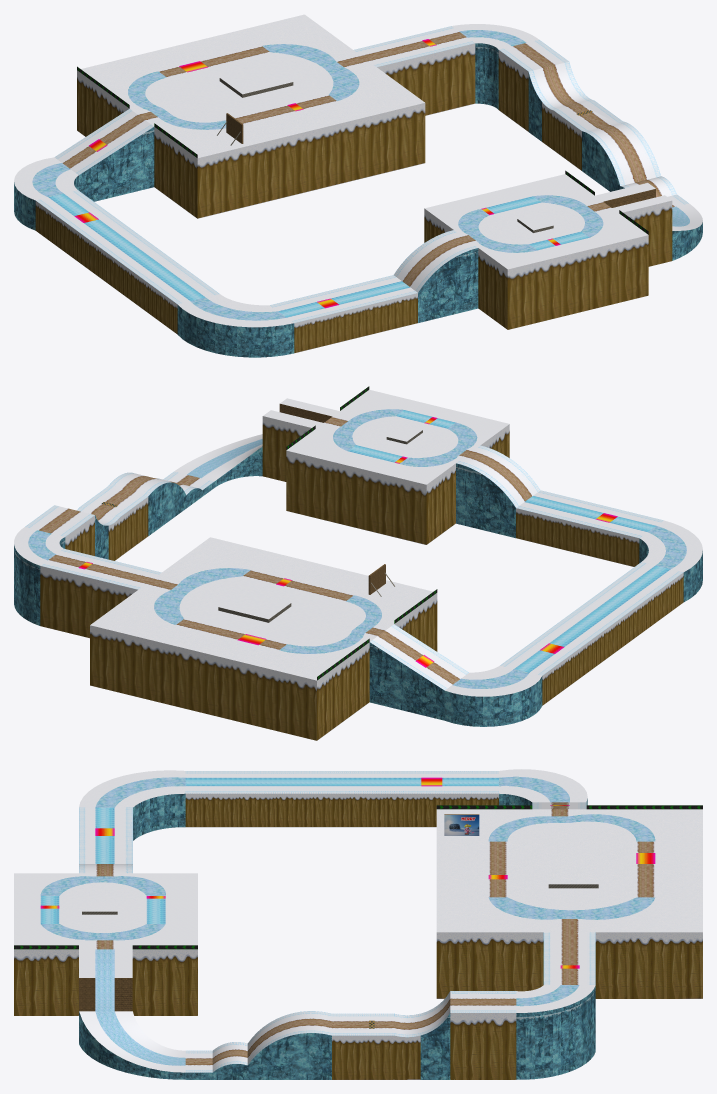
3 views of the same model, one above another, from view 1: azimuth 30°, elevation 25°; view 2: azimuth 150°, elevation 25°; view 3: azimuth 270°, elevation 25° (orthographic). The views are drawn at different scales.
Parts seen in each view (by area): view 1: Christmas_Raceway-SKP--Wall.001, Christmas_Raceway-SKP--Snow.001, Christmas_Raceway-SKP--Wall2.001, Christmas_Raceway-SKP--Ice.001, Christmas_Raceway-SKP--Raod.001, Christmas_Raceway-SKP--Snow0.001, Christmas_Raceway-SKP--IceRoad.001, Christmas_Raceway-SKP--Snow1.001, Christmas_Raceway-SKP--Boost.001, Christmas_Raceway-SKP--Wall0.001, Christmas_Raceway-SKP--Arrow.001; view 2: Christmas_Raceway-SKP--Wall.001, Christmas_Raceway-SKP--Snow.001, Christmas_Raceway-SKP--Wall2.001, Christmas_Raceway-SKP--Ice.001, Christmas_Raceway-SKP--Raod.001, Christmas_Raceway-SKP--IceRoad.001, Christmas_Raceway-SKP--Snow0.001, Christmas_Raceway-SKP--Snow1.001, Christmas_Raceway-SKP--Boost.001, Christmas_Raceway-SKP--Wall0.001, Christmas_Raceway-SKP--Arrow.001; view 3: Christmas_Raceway-SKP--Snow.001, Christmas_Raceway-SKP--Wall.001, Christmas_Raceway-SKP--Wall2.001, Christmas_Raceway-SKP--Ice.001, Christmas_Raceway-SKP--Raod.001, Christmas_Raceway-SKP--IceRoad.001, Christmas_Raceway-SKP--Snow0.001, Christmas_Raceway-SKP--Snow1.001, Christmas_Raceway-SKP--Arrow.001, Christmas_Raceway-SKP--Wall0.001, Christmas_Raceway-SKP--Boost.001, Christmas_Raceway-SKP--Ads.001.
Part boxes in pixels (bbox=[...]): Christmas_Raceway-SKP--Wall.001: bbox=[35, 43, 672, 353]; Christmas_Raceway-SKP--Snow.001: bbox=[14, 14, 702, 327]; Christmas_Raceway-SKP--Wall2.001: bbox=[14, 43, 702, 357]; Christmas_Raceway-SKP--Ice.001: bbox=[32, 30, 689, 320]; Christmas_Raceway-SKP--Raod.001: bbox=[62, 31, 675, 287]; Christmas_Raceway-SKP--Snow0.001: bbox=[36, 26, 688, 322]; Christmas_Raceway-SKP--IceRoad.001: bbox=[49, 193, 589, 317]; Christmas_Raceway-SKP--Snow1.001: bbox=[54, 39, 631, 295]; Christmas_Raceway-SKP--Boost.001: bbox=[74, 39, 560, 308]; Christmas_Raceway-SKP--Wall0.001: bbox=[226, 113, 655, 207]; Christmas_Raceway-SKP--Arrow.001: bbox=[77, 66, 648, 234]; Christmas_Raceway-SKP--Wall.001: bbox=[40, 416, 683, 740]; Christmas_Raceway-SKP--Snow.001: bbox=[14, 389, 702, 696]; Christmas_Raceway-SKP--Wall2.001: bbox=[14, 446, 702, 726]; Christmas_Raceway-SKP--Ice.001: bbox=[28, 409, 686, 688]; Christmas_Raceway-SKP--Raod.001: bbox=[37, 416, 532, 684]; Christmas_Raceway-SKP--IceRoad.001: bbox=[348, 410, 670, 672]; Christmas_Raceway-SKP--Snow0.001: bbox=[41, 445, 683, 675]; Christmas_Raceway-SKP--Snow1.001: bbox=[25, 460, 647, 690]; Christmas_Raceway-SKP--Boost.001: bbox=[78, 417, 617, 667]; Christmas_Raceway-SKP--Wall0.001: bbox=[279, 404, 385, 594]; Christmas_Raceway-SKP--Arrow.001: bbox=[286, 386, 437, 680]; Christmas_Raceway-SKP--Snow.001: bbox=[14, 769, 702, 1072]; Christmas_Raceway-SKP--Wall.001: bbox=[14, 793, 702, 1079]; Christmas_Raceway-SKP--Wall2.001: bbox=[79, 793, 595, 1079]; Christmas_Raceway-SKP--Ice.001: bbox=[40, 776, 655, 1065]; Christmas_Raceway-SKP--Raod.001: bbox=[95, 802, 655, 1065]; Christmas_Raceway-SKP--IceRoad.001: bbox=[40, 777, 498, 923]; Christmas_Raceway-SKP--Snow0.001: bbox=[79, 771, 595, 1072]; Christmas_Raceway-SKP--Snow1.001: bbox=[124, 790, 586, 1054]; Christmas_Raceway-SKP--Arrow.001: bbox=[14, 805, 702, 949]; Christmas_Raceway-SKP--Wall0.001: bbox=[79, 814, 479, 1011]; Christmas_Raceway-SKP--Boost.001: bbox=[40, 777, 655, 968]; Christmas_Raceway-SKP--Ads.001: bbox=[444, 815, 479, 835].
Size of what is drawn, in the model's own units: 113086 by 16719 by 118756.
15 materials, 15 textured.
